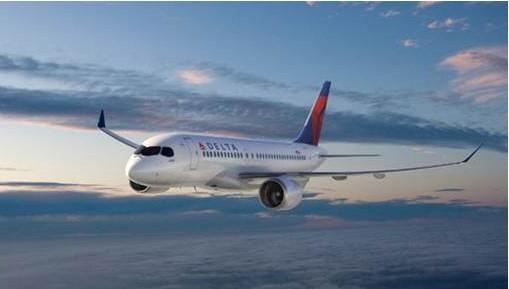airplane: (97, 80, 495, 212)
